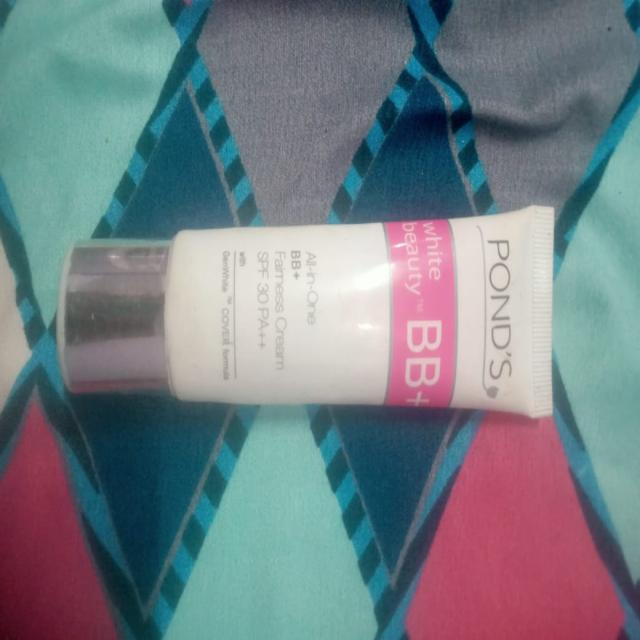bb cream: (45, 163, 576, 438)
